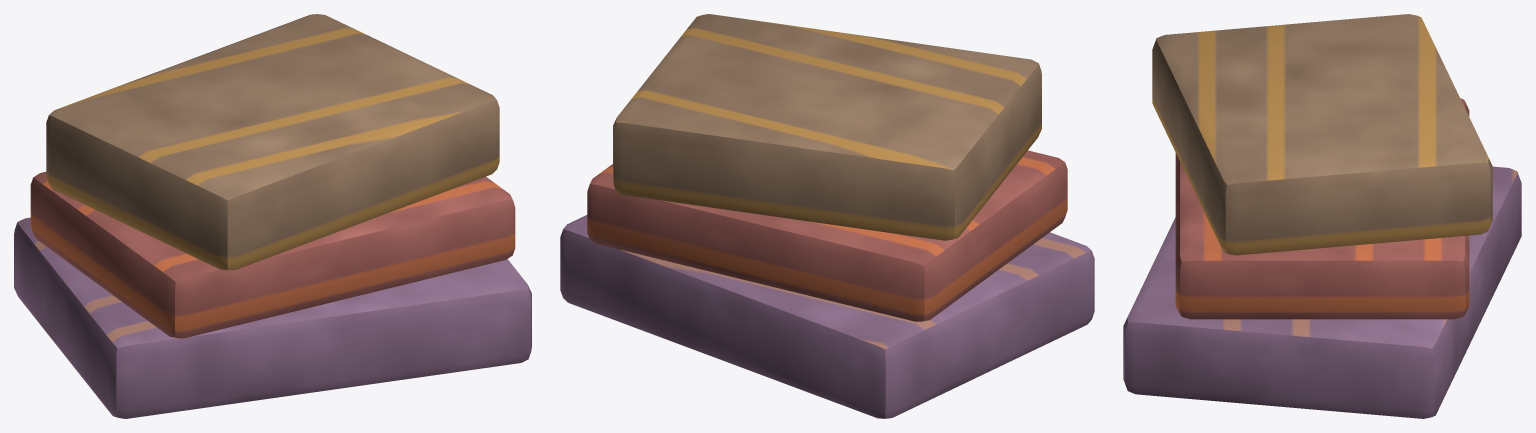
Rendered from books.gltf.
The picture shows the model from 3 angles, left to right: view 1: azimuth 30°, elevation 25°; view 2: azimuth 150°, elevation 25°; view 3: azimuth 270°, elevation 25°; orthographic projection.
Parts seen in each view (by area): view 1: books_mesh; view 2: books_mesh; view 3: books_mesh.
Boxes of the visible parts, x1,y1,x2,y2 form: books_mesh: [14, 14, 531, 418]; books_mesh: [560, 14, 1094, 418]; books_mesh: [1123, 14, 1521, 418].
Size of the model in its own units: 0.3338 by 0.17 by 0.2712.
4 materials, 4 textured.
